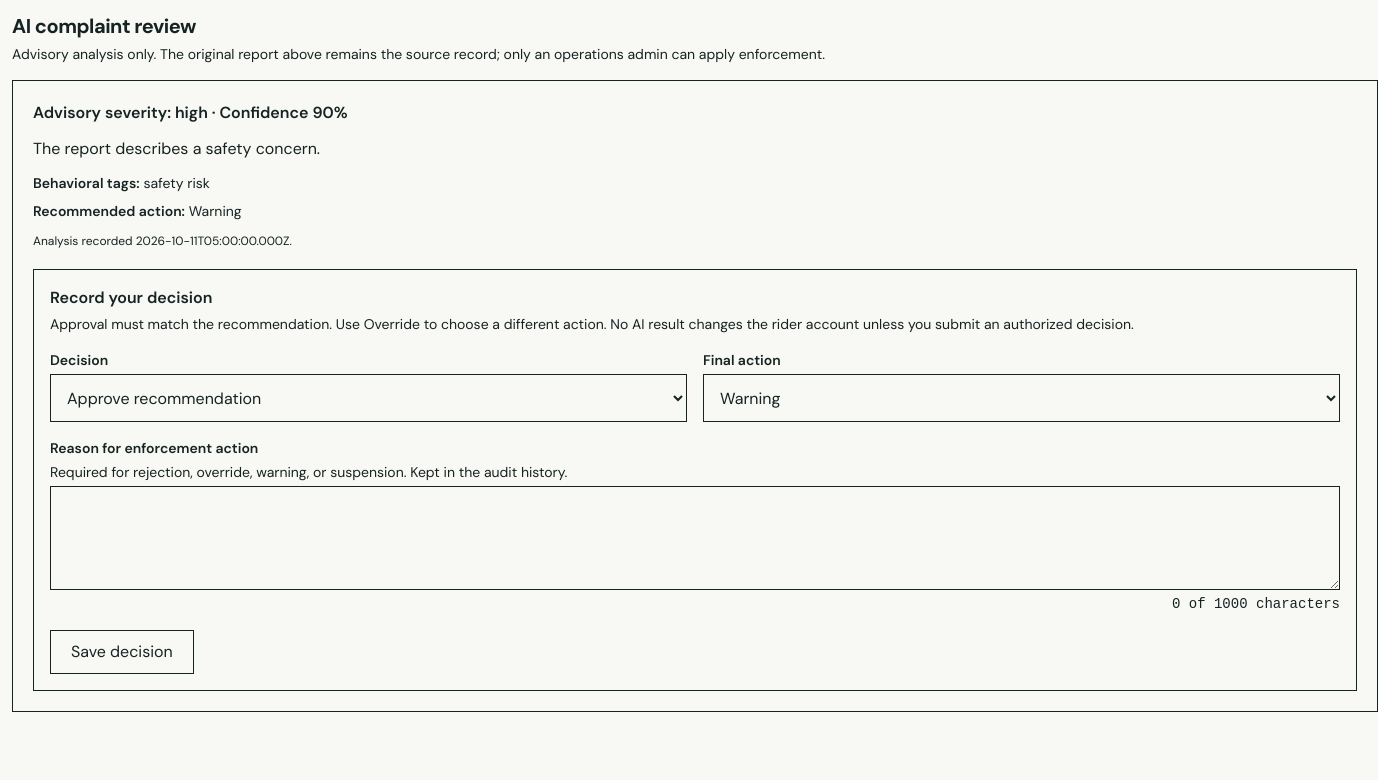
Test case: AiComplaintReview (OA-FR-34, OA-FR-36, CS455-56, CS455-57) › checks required enforcement reason before sending a decision
Click the button "Save decision".
click(122, 652)  # box 50,630 -> 194,674
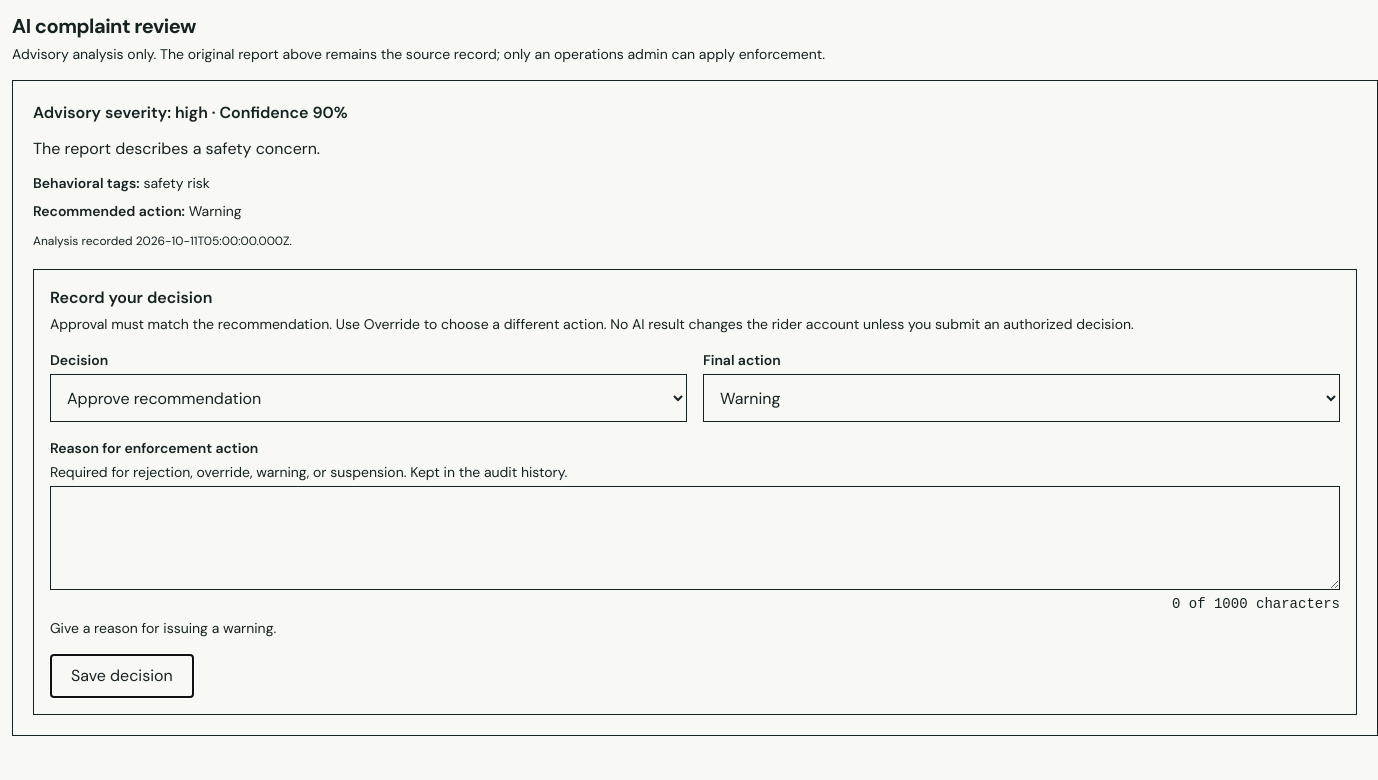
Expected: the text "Give a reason for issuing a warning." is shown, 50,619 -> 276,637
